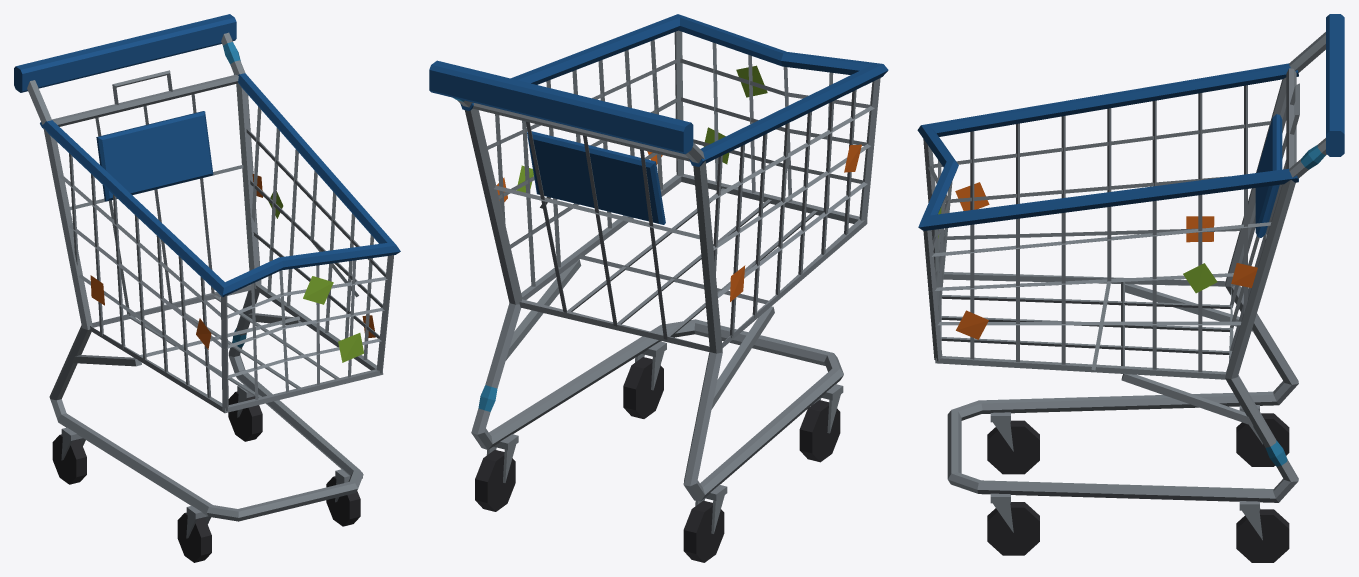
Rendered from abandoned-shopping-trolley-3de6cb.glb.
3 renders of one model, left to right at view 1: azimuth 30°, elevation 25°; view 2: azimuth 150°, elevation 25°; view 3: azimuth 270°, elevation 25°, orthographic. The views are drawn at different scales.
Parts seen in each view (by area): view 1: abandoned-shopping-trolley, wheel-fl, wheel-rl, wheel-rr, wheel-fr; view 2: abandoned-shopping-trolley, wheel-rl, wheel-fl, wheel-fr, wheel-rr; view 3: abandoned-shopping-trolley, wheel-rr, wheel-fl, wheel-fr, wheel-rl.
Part boxes in pixels (x1,y1,x2,y2): abandoned-shopping-trolley: (14, 14, 400, 521); wheel-fl: (177, 512, 211, 562); wheel-rl: (52, 434, 86, 484); wheel-rr: (228, 391, 262, 441); wheel-fr: (326, 476, 360, 526); abandoned-shopping-trolley: (429, 14, 888, 501); wheel-rl: (683, 500, 724, 562); wheel-fl: (799, 400, 840, 462); wheel-fr: (623, 357, 663, 418); wheel-rr: (475, 450, 515, 511); abandoned-shopping-trolley: (917, 14, 1344, 502); wheel-rr: (1236, 509, 1289, 562); wheel-fl: (987, 420, 1039, 474); wheel-fr: (987, 502, 1039, 555); wheel-rl: (1236, 413, 1289, 466).
Bounding box in the file's own units: 0.6511 × 1.05 × 0.9256.
